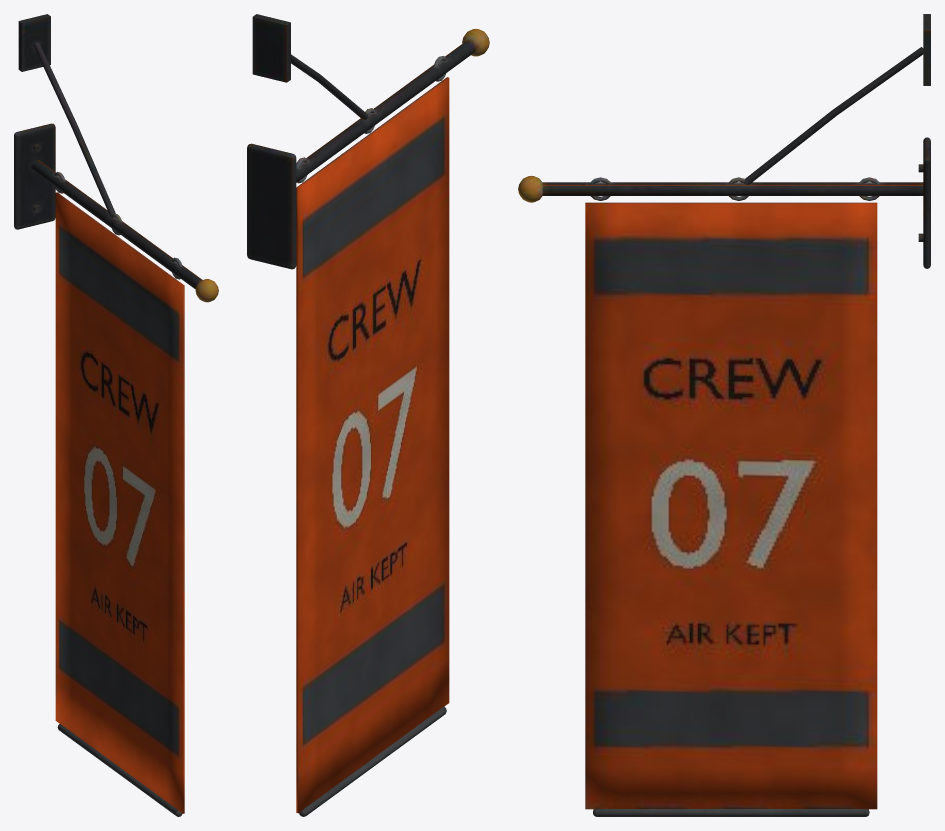
File: banner_crew.glb
3 views of the same model, side by side, from view 1: azimuth 30°, elevation 25°; view 2: azimuth 150°, elevation 25°; view 3: azimuth 270°, elevation 25° (orthographic). The views are drawn at different scales.
Parts seen in each view (by area): view 1: banner_crew; view 2: banner_crew; view 3: banner_crew.
Part boxes in pixels (x1,y1,x2,y2): banner_crew: [14, 14, 218, 816]; banner_crew: [247, 14, 489, 816]; banner_crew: [518, 14, 930, 816].
Size of the model in its own units: 0.14 by 2.28 by 1.07.
1 material, 1 textured.
